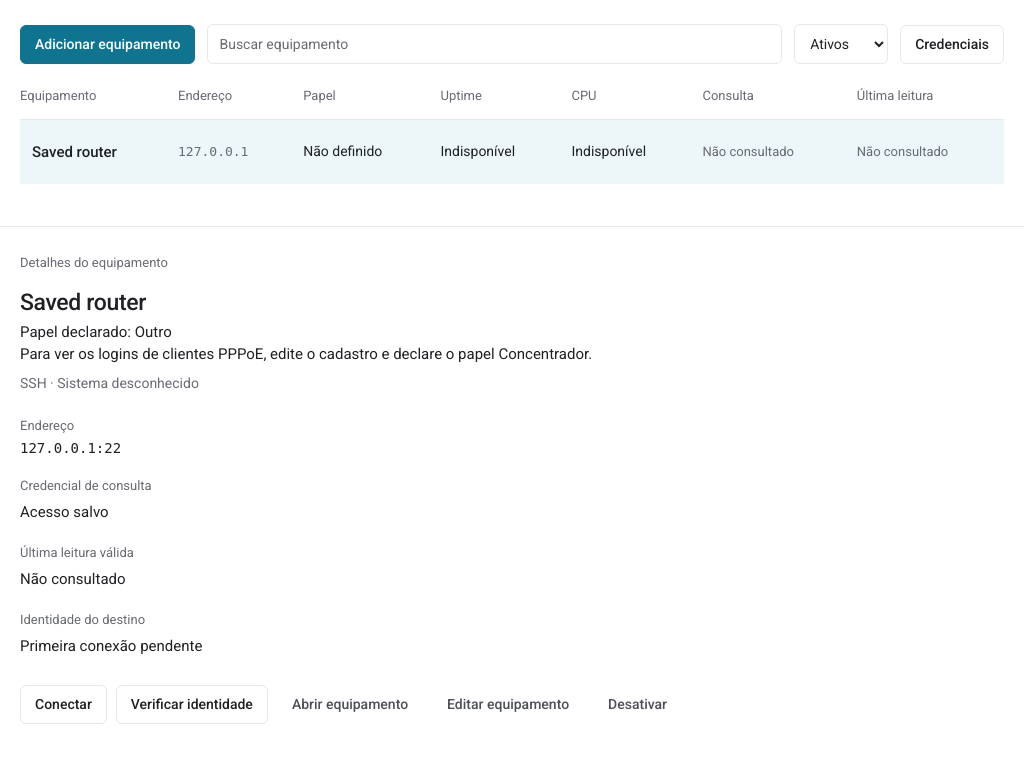
Test: cancel first acceptance never authenticates and leaves a resumable saved device
Expected: the heading "Saved router" is shown, [20,289,146,316]
Click the button "Conectar".
click(63, 705)  # box [20,685,107,724]
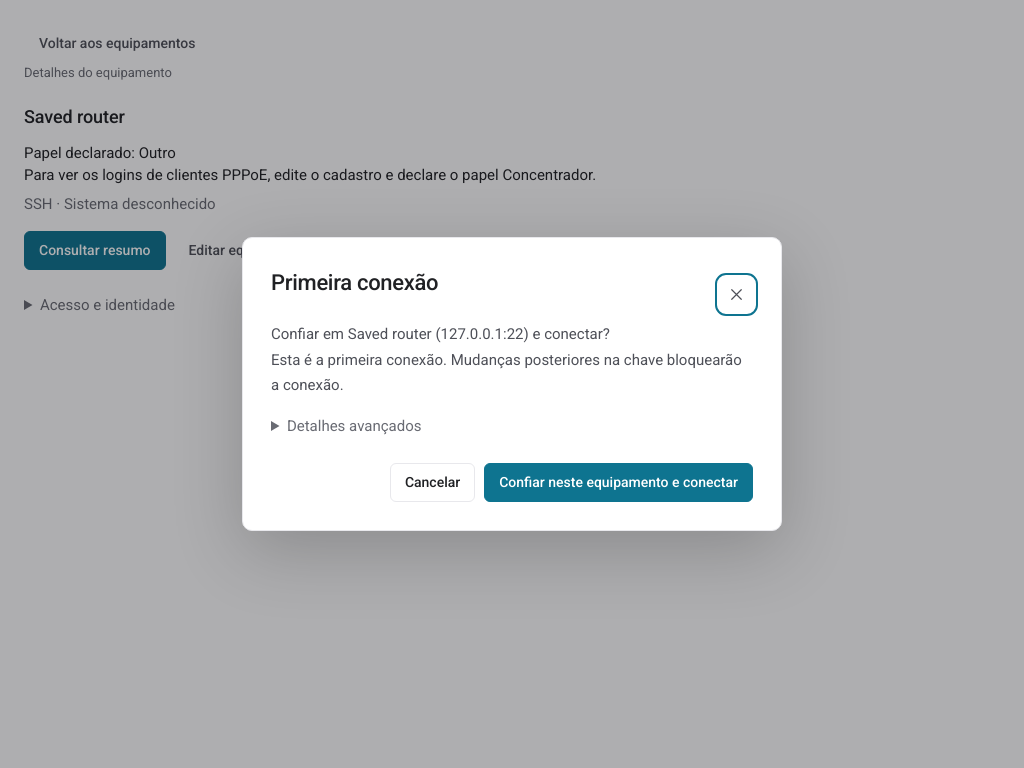
Click the button "Cancelar".
click(433, 482)  # box [390,463,475,502]
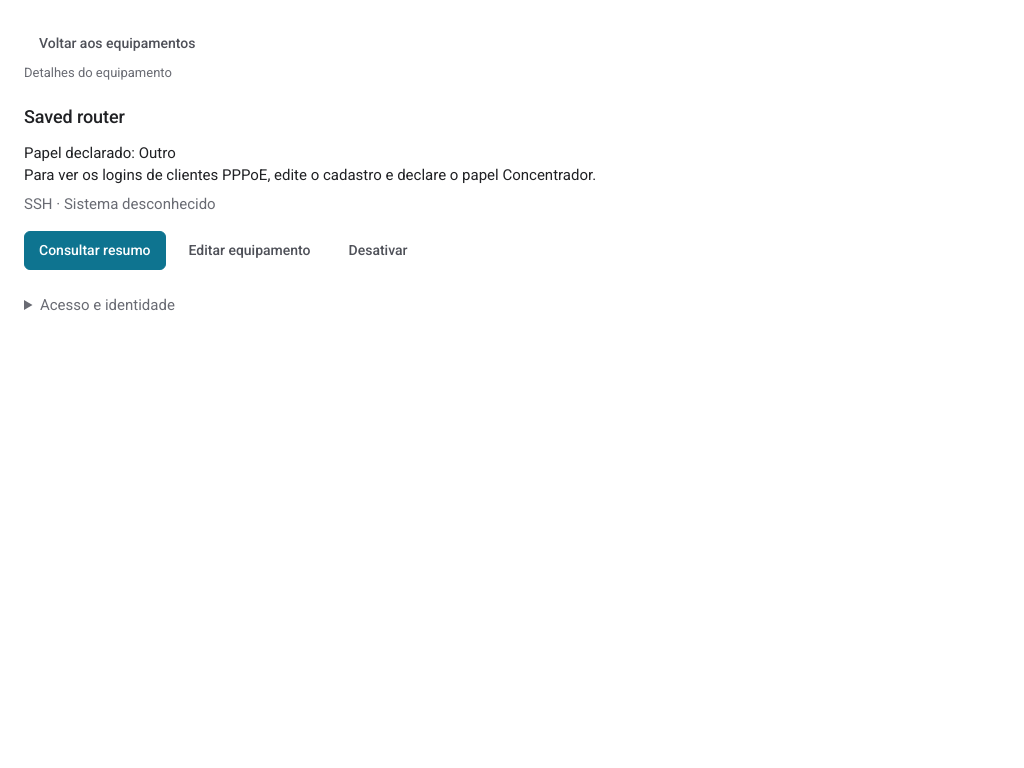
Result: the dialog is gone
Click the button "Consultar resumo".
click(95, 250)  # box [24,231,166,270]
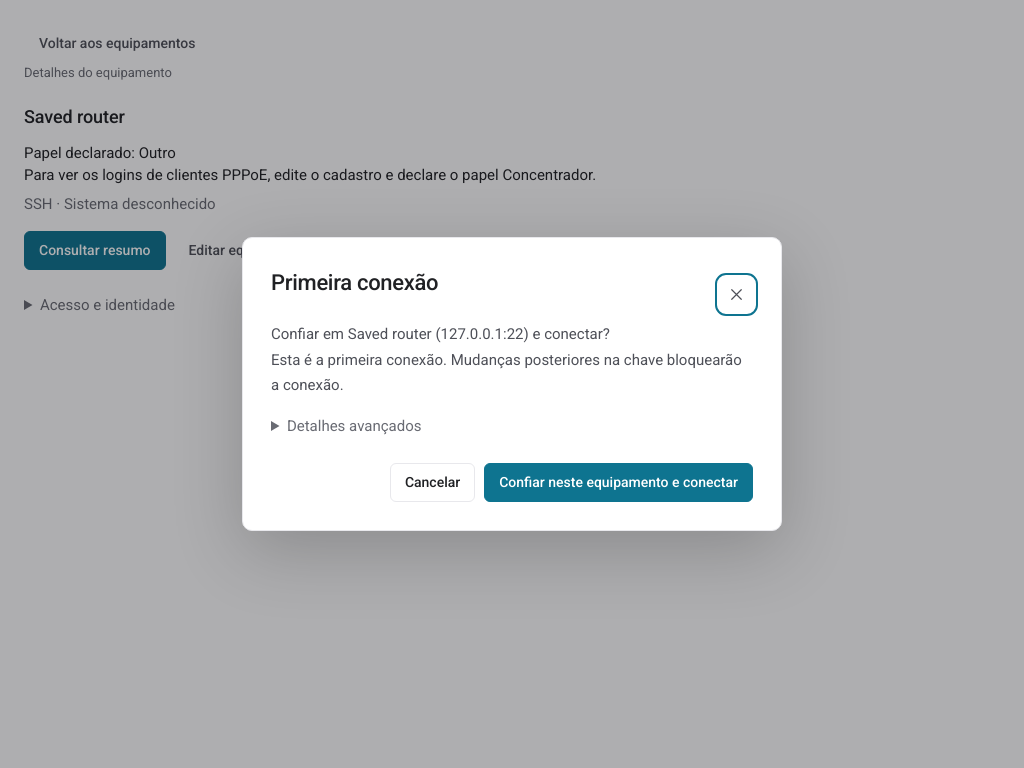
Result: the dialog "Primeira conexão" is shown at [242,237,782,531]
